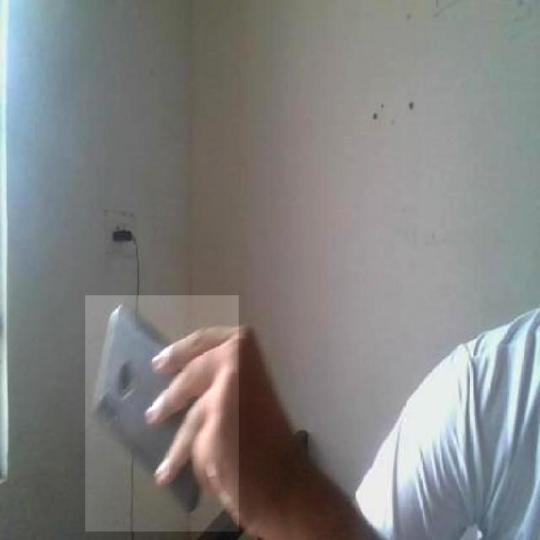phone: (92, 297, 248, 520)
